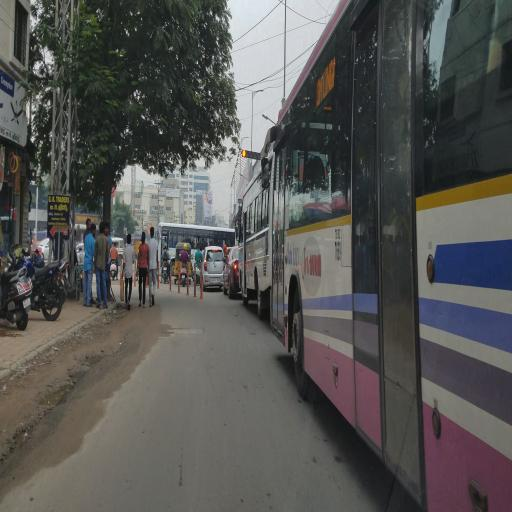street_light_0: (251, 83, 270, 103), (260, 110, 280, 128)
